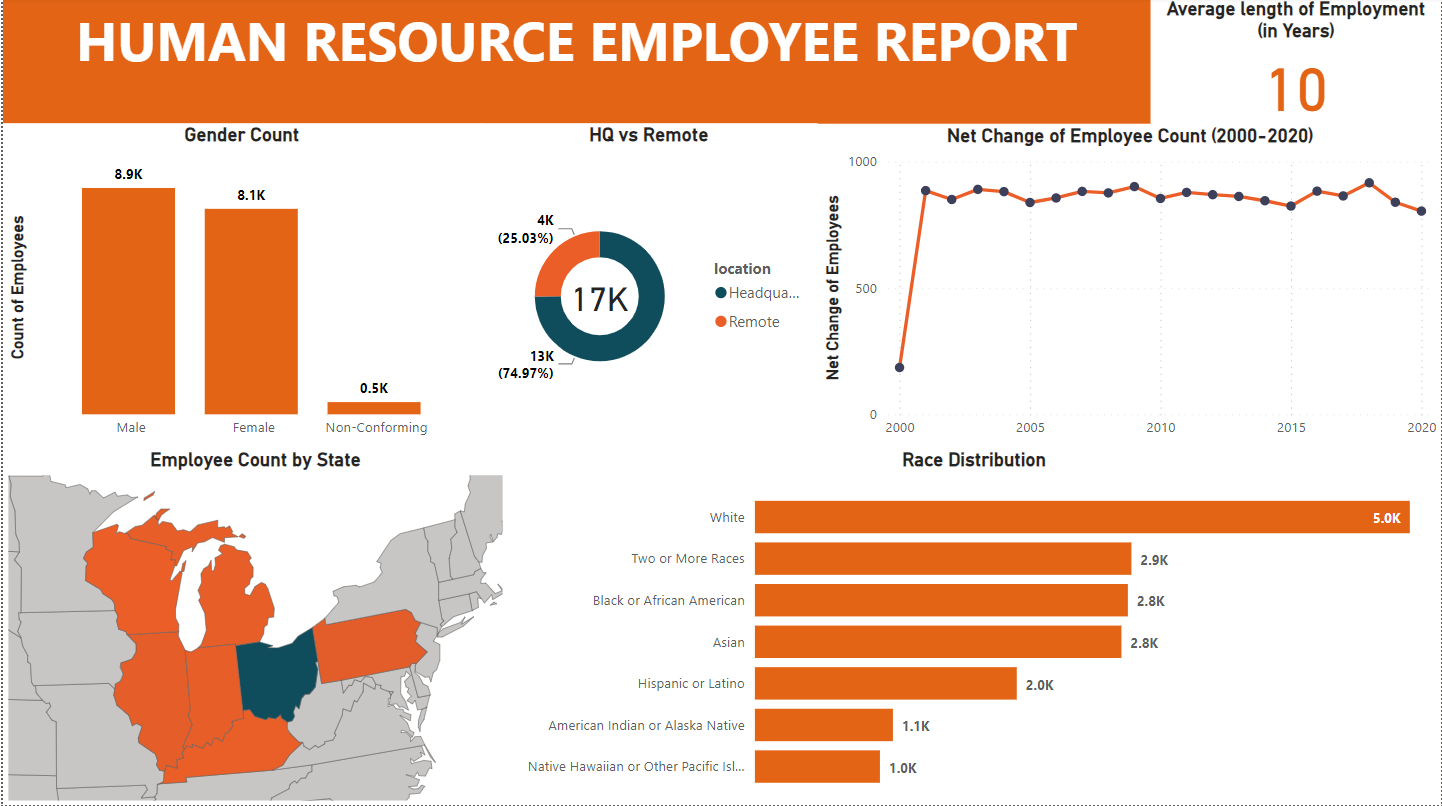

Layout of this report page (visuals, bound fields, positions):
{"tool":"powerbi","page":{"name":"Page 1","canvas":[1280,720],"ordinal":0},"visuals":[{"type":"card","title":"Average length of Employment (in Years)","fields":{"Values":["Sum(avg_length_empl.avg_length_of_stay)"]},"box":[1021.4,0,259.1,112.4],"z":0},{"type":"textbox","box":[150,252,300,300],"z":1000},{"type":"textbox","box":[0,0,1021.4,112.4],"z":2000},{"type":"columnChart","title":"Gender Count","fields":{"Y":["Sum(gender.gdr_count)"],"Category":["gender.gender"]},"box":[0,112.7,425.3,289.3],"z":3000},{"type":"donutChart","title":"HQ vs Remote","fields":{"Y":["Sum(location.lctn_cnt)"],"Category":["location.location"]},"box":[425.3,112.7,299.8,289.3],"z":4000},{"type":"lineChart","title":"Net Change of Employee Count (2000-2020)","fields":{"Y":["Sum(empl_change.net_change)"],"Category":["empl_change.years"]},"box":[725.1,113.9,555.4,288.2],"z":5000},{"type":"shapeMap","title":"Employee Count by State","fields":{"Category":["state_empl_count.location_state"],"Value":["Sum(state_empl_count.empl_ltn)"]},"box":[0,402,449.7,318.4],"z":6000},{"type":"clusteredBarChart","title":"Race Distribution","fields":{"Category":["race.race"],"Y":["Sum(race.no_race)"]},"box":[450,401.4,830,318.6],"z":7000},{"type":"card","fields":{"Values":["age_group.Total Count of Employees"]},"box":[468.6,228.6,125.7,78.6],"z":8000}]}

Visuals, with their boxes in screenshot pixels (x1, y1, x2, y2), scaled from the page's 1280x720 canvas onto the 1442x806 screenshot:
"Average length of Employment (in Years)" card: {"left": 1151, "top": 0, "right": 1441, "bottom": 126}
textbox: {"left": 169, "top": 282, "right": 507, "bottom": 618}
textbox: {"left": 0, "top": 0, "right": 1151, "bottom": 126}
"Gender Count" columnChart: {"left": 0, "top": 126, "right": 479, "bottom": 450}
"HQ vs Remote" donutChart: {"left": 479, "top": 126, "right": 817, "bottom": 450}
"Net Change of Employee Count (2000-2020)" lineChart: {"left": 817, "top": 128, "right": 1441, "bottom": 450}
"Employee Count by State" shapeMap: {"left": 0, "top": 450, "right": 507, "bottom": 805}
"Race Distribution" clusteredBarChart: {"left": 507, "top": 449, "right": 1441, "bottom": 805}
card - age_group.Total Count of Employees: {"left": 528, "top": 256, "right": 670, "bottom": 344}
